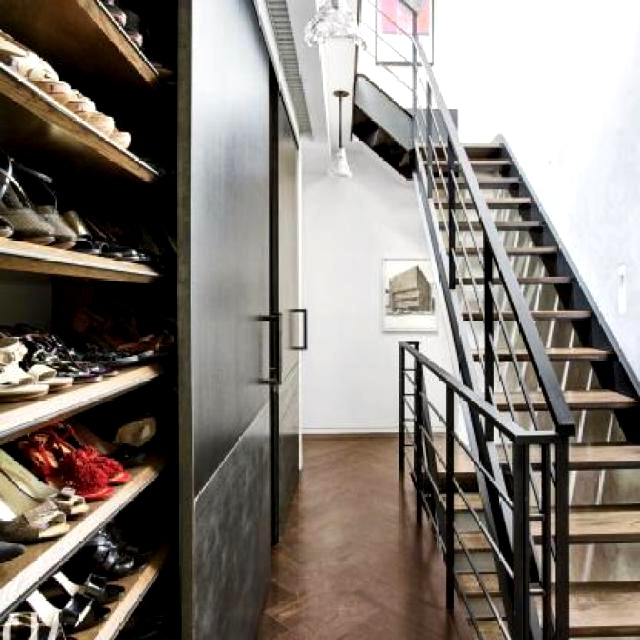stair: (391, 66, 640, 639)
